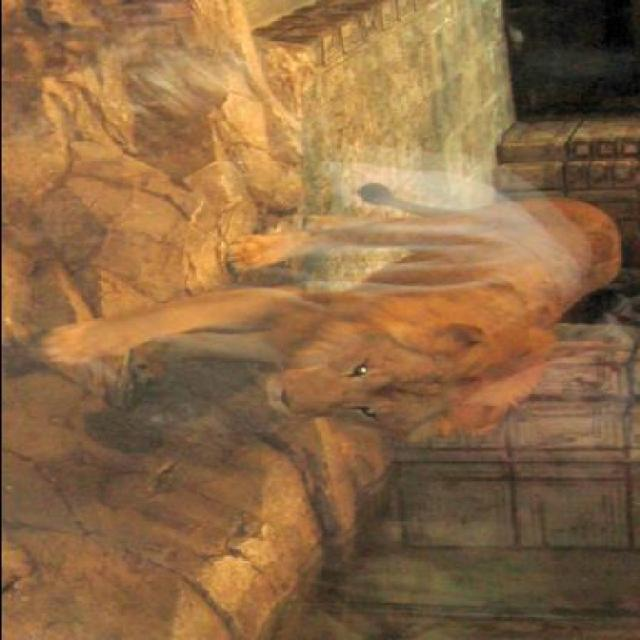Lion: (2, 171, 623, 460)
